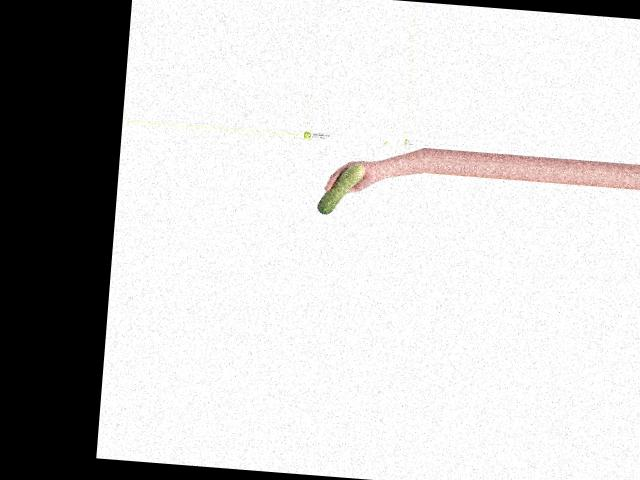cucumber: (318, 160, 365, 216)
